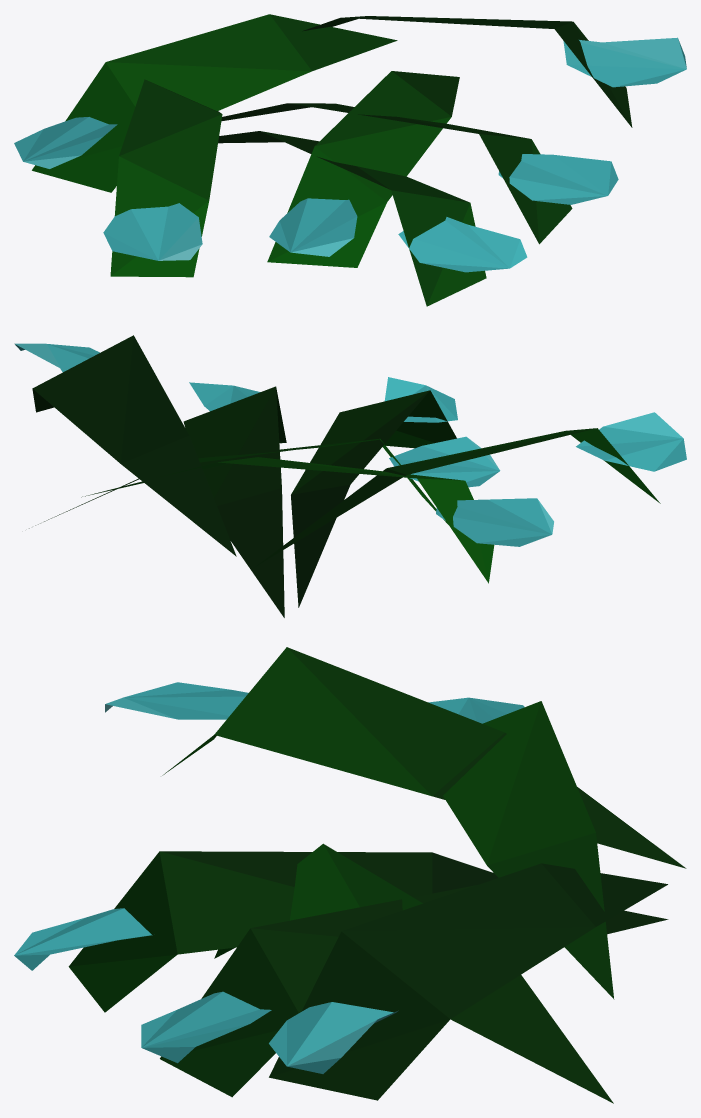
Rendered from flax.obj.
3 views of the same model, one above another, from view 1: azimuth 30°, elevation 25°; view 2: azimuth 150°, elevation 25°; view 3: azimuth 270°, elevation 25° (orthographic). The views are drawn at different scales.
Visible parts, largest first — view 1: flax; view 2: flax; view 3: flax.
Boxes of the visible parts, left/top/right/bottom form: flax: left=14, top=14, right=686, bottom=306; flax: left=14, top=335, right=686, bottom=617; flax: left=14, top=647, right=686, bottom=1103.
Size of the model in its own units: 51 by 11 by 37.
